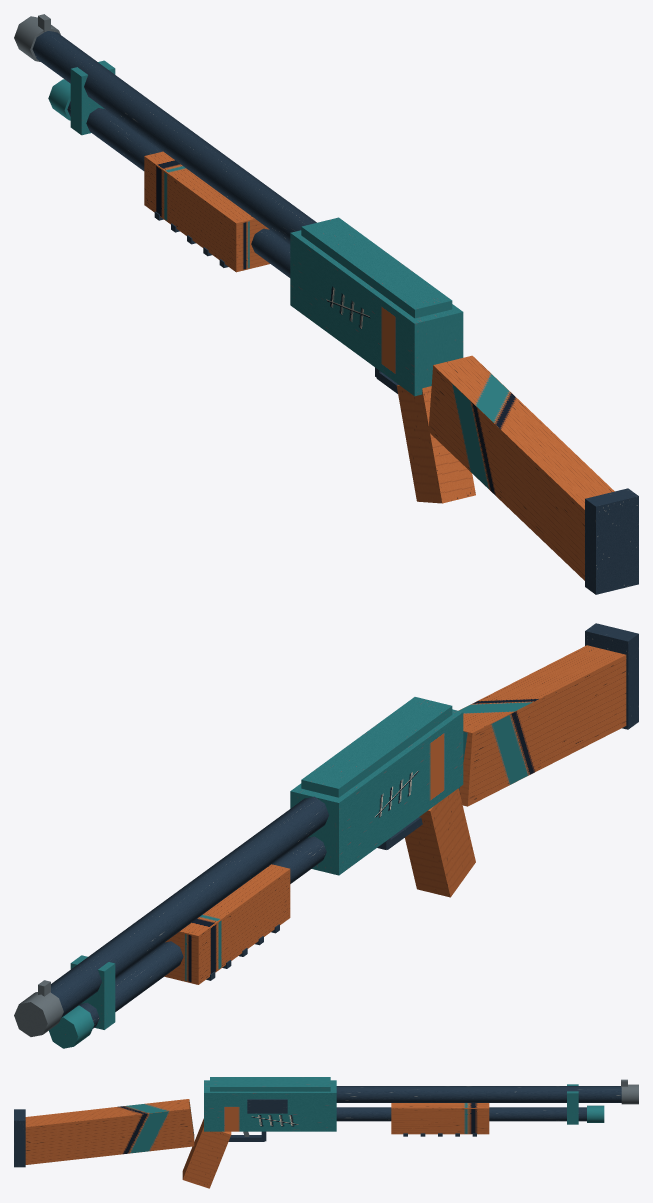
The model's file is Shotgun_Survivor_Skin.glb.
3 views of the same model, one above another, from view 1: azimuth 30°, elevation 25°; view 2: azimuth 150°, elevation 25°; view 3: azimuth 270°, elevation 25° (orthographic). The views are drawn at different scales.
Parts seen in each view (by area): view 1: Stock, Receiver, Barrel, Fore, ReceiverTop, ButtPad, Grip, MagTube, BarrelBand, Muzzle; view 2: Stock, Receiver, Barrel, Fore, ReceiverTop, Grip, MagTube, ButtPad, Muzzle, BarrelBand, MagCap; view 3: Stock, Receiver, Barrel, Fore, MagTube, Grip, ReceiverTop, ButtPad, EjectionPort, BarrelBand, Muzzle, MagCap (+1 smaller).
Part boxes in pixels (left/top/right/bottom): Stock: left=428, top=355, right=614, bottom=580; Receiver: left=290, top=230, right=463, bottom=396; Barrel: left=32, top=31, right=316, bottom=243; Fore: left=144, top=151, right=269, bottom=272; ReceiverTop: left=301, top=217, right=452, bottom=318; ButtPad: left=585, top=488, right=638, bottom=594; Grip: left=396, top=385, right=475, bottom=503; MagTube: left=67, top=101, right=290, bottom=277; BarrelBand: left=70, top=60, right=115, bottom=135; Muzzle: left=14, top=16, right=60, bottom=61; Stock: left=458, top=645, right=626, bottom=806; Receiver: left=290, top=709, right=463, bottom=875; Barrel: left=51, top=796, right=328, bottom=1017; Fore: left=164, top=864, right=290, bottom=984; ReceiverTop: left=301, top=697, right=452, bottom=797; Grip: left=405, top=788, right=475, bottom=897; MagTube: left=79, top=836, right=326, bottom=1028; ButtPad: left=585, top=623, right=638, bottom=729; Muzzle: left=14, top=992, right=63, bottom=1036; BarrelBand: left=70, top=955, right=115, bottom=1029; MagCap: left=49, top=1005, right=94, bottom=1048; Stock: left=25, top=1099, right=194, bottom=1164; Receiver: left=204, top=1080, right=336, bottom=1131; Barrel: left=336, top=1086, right=621, bottom=1102; Fore: left=391, top=1103, right=489, bottom=1134; MagTube: left=336, top=1107, right=586, bottom=1121; Grip: left=182, top=1118, right=231, bottom=1188; ReceiverTop: left=210, top=1077, right=330, bottom=1091; ButtPad: left=14, top=1109, right=25, bottom=1167; EjectionPort: left=247, top=1099, right=287, bottom=1113; BarrelBand: left=567, top=1084, right=578, bottom=1124; Muzzle: left=621, top=1084, right=638, bottom=1104; MagCap: left=587, top=1105, right=604, bottom=1122.
Bounding box in the file's own units: 0.06 × 0.1992 × 1.09.
22 materials, 22 textured.
